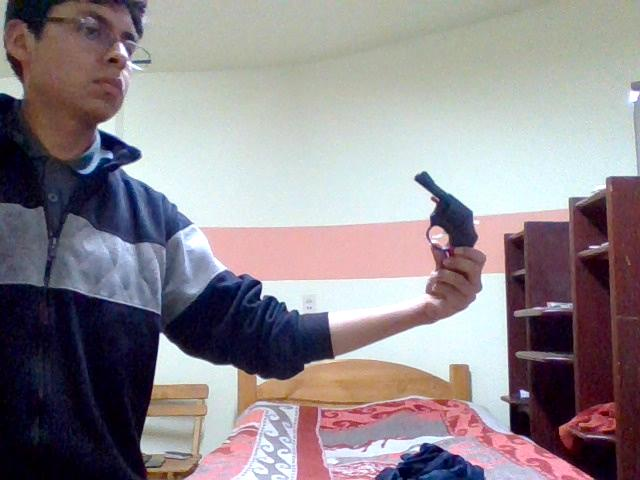pistol: (378, 156, 508, 316)
